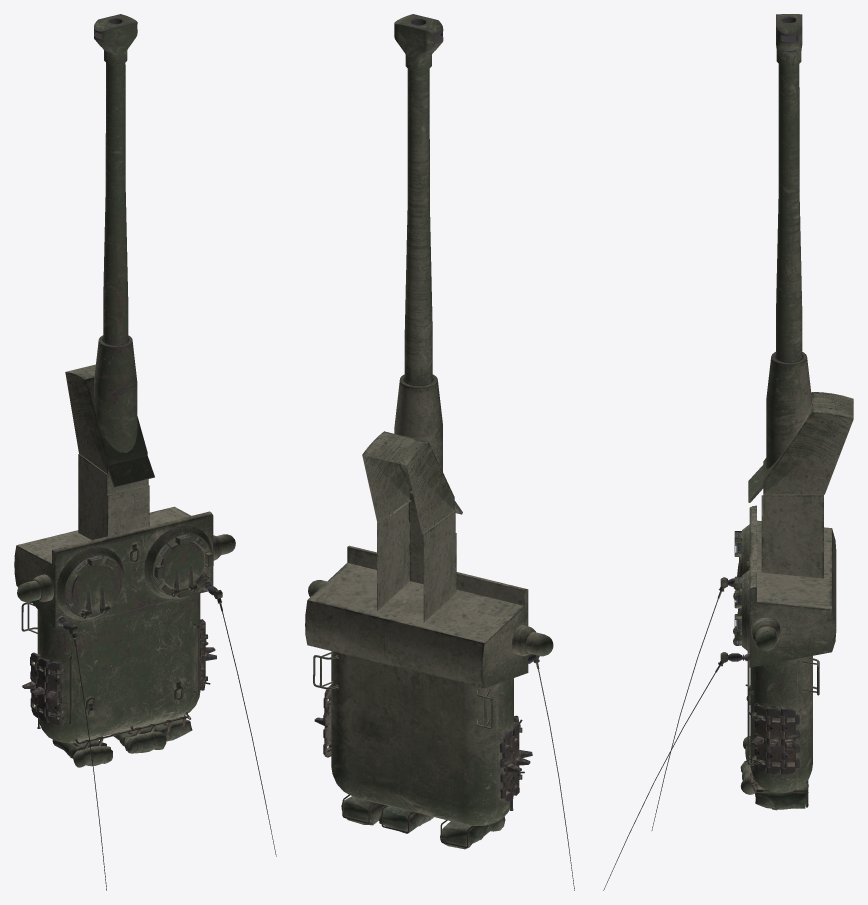
Rendered from Gun_02.glb.
The picture shows the model from 3 angles, left to right: view 1: azimuth 30°, elevation 25°; view 2: azimuth 150°, elevation 25°; view 3: azimuth 270°, elevation 25°; orthographic projection. The views are drawn at different scales.
Parts seen in each view (by area): view 1: set_0_group_0; view 2: set_0_group_0; view 3: set_0_group_0.
Part boxes in pixels (left/top/right/bottom): set_0_group_0: left=14, top=14, right=276, bottom=890; set_0_group_0: left=305, top=14, right=574, bottom=890; set_0_group_0: left=603, top=14, right=853, bottom=890.
Bounding box in the file's own units: 2.43 × 8.61 × 2.3.
Materials: 1 (1 with a texture image).
